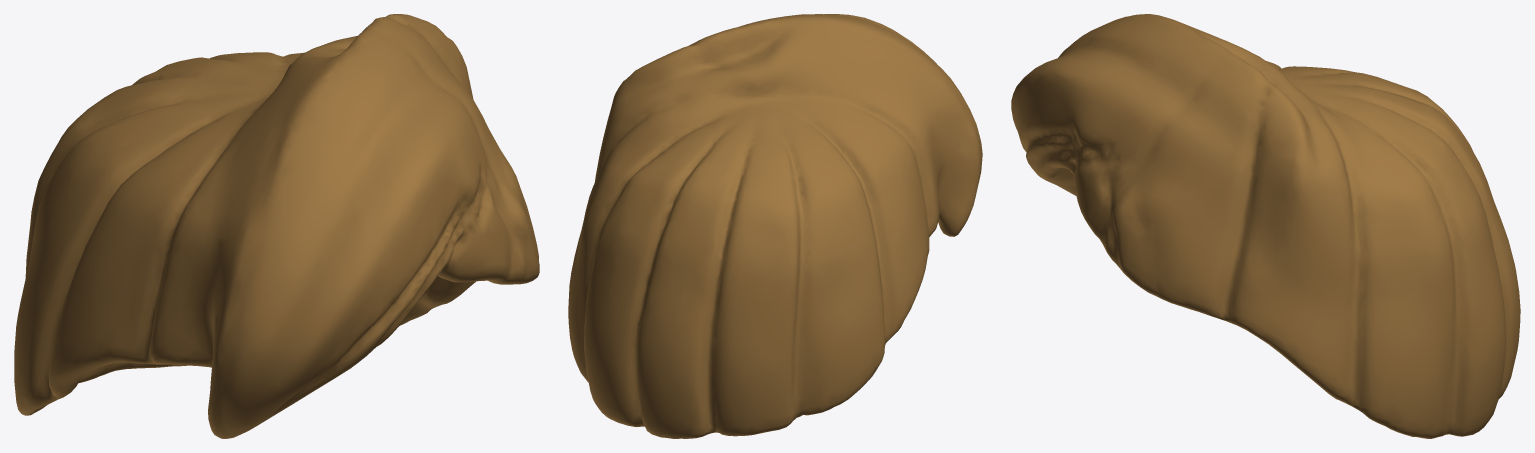
Rendered from saffron_swept_crop.glb.
The picture shows the model from 3 angles, left to right: view 1: azimuth 30°, elevation 25°; view 2: azimuth 150°, elevation 25°; view 3: azimuth 270°, elevation 25°; orthographic projection. The views are drawn at different scales.
Parts seen in each view (by area): view 1: saffron_swept_crop; view 2: saffron_swept_crop; view 3: saffron_swept_crop.
Boxes of the visible parts, x1,y1,x2,y2 form: saffron_swept_crop: (14, 14, 539, 438); saffron_swept_crop: (568, 14, 982, 438); saffron_swept_crop: (1011, 14, 1520, 438).
Size of the model in its own units: 0.7707 by 0.7572 by 0.9478.
